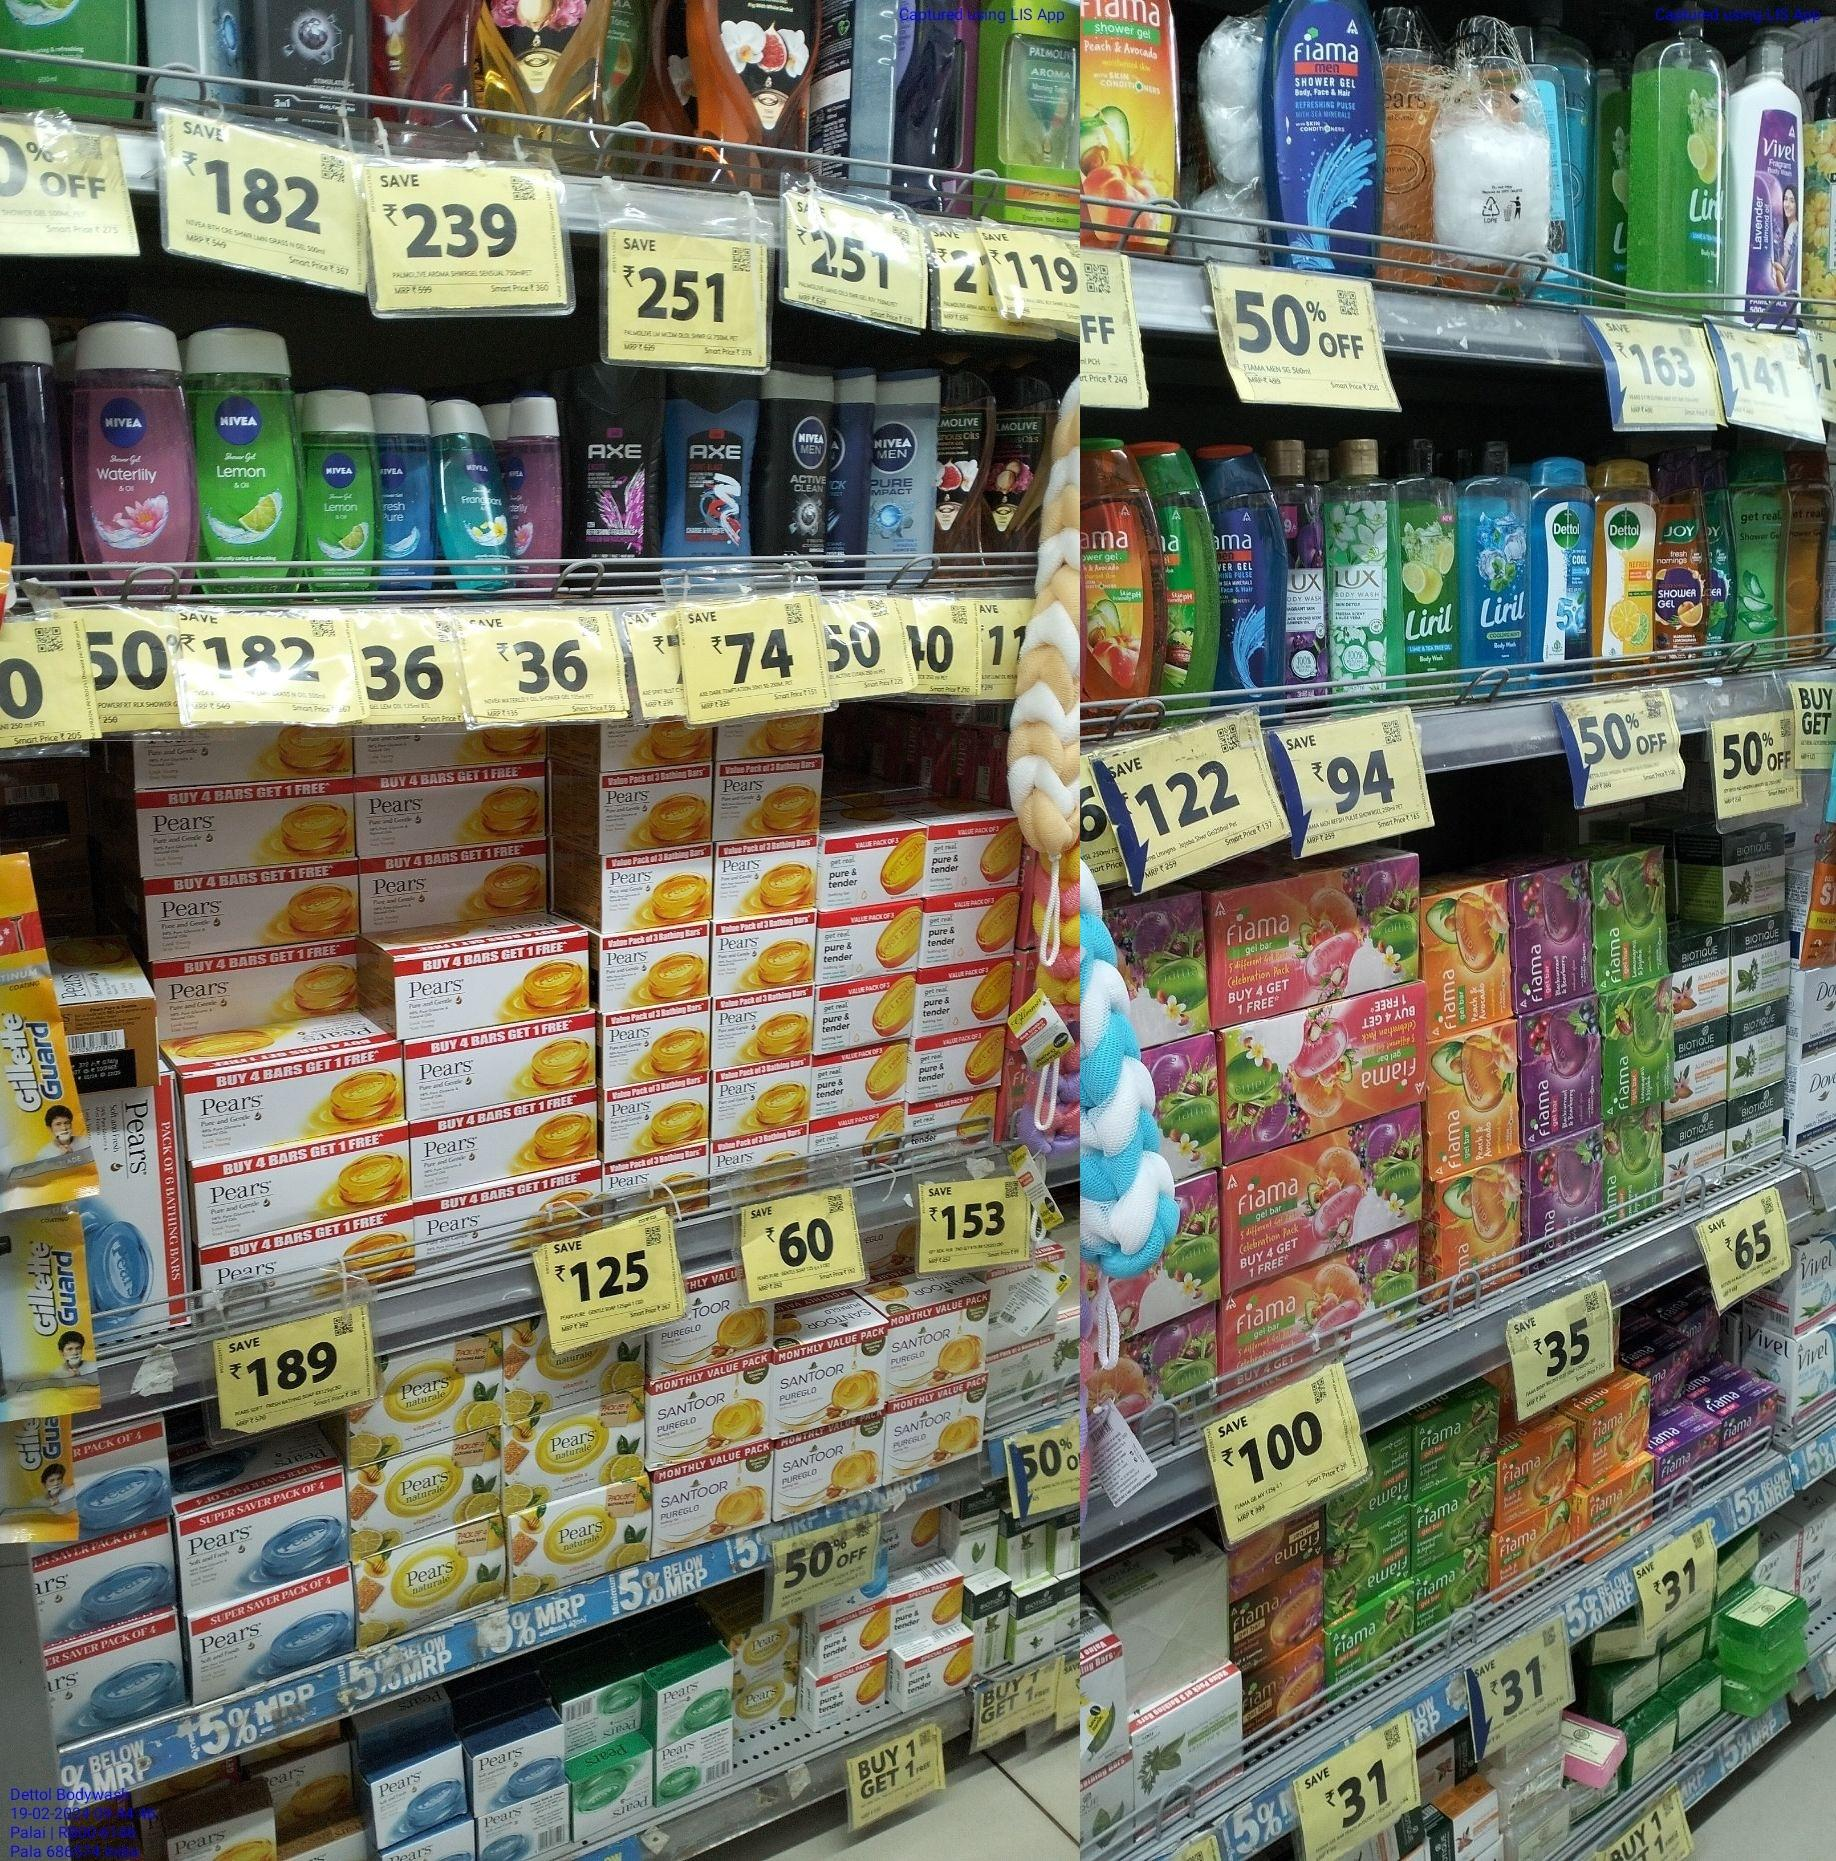Dettol_Bodywash_Cool: (1530, 457, 1592, 688)
Dettol_Bodywash_Refresh: (1597, 456, 1654, 683)
Fiama_Shower_Gel_Peach_and_Avocado_250ML: (1083, 437, 1165, 735)
Joy_Shower_Gel_Mandarin_and_Lemongrass_250ML: (1654, 456, 1708, 674)
Liril_Cooling_Mint_Body_Wash_250ML: (1464, 444, 1528, 693)
Liril_Lime_and_Tea_Tree_Oil_Body_Wash_250ML: (1406, 435, 1463, 699)
Lux_Body_Wash_Skin_Detox_Freesia_Scent_and_Alove_Vera_245ML: (1327, 434, 1406, 708)
Nivea_Shower_Gel_Lemon_and_Oil_250ML: (197, 323, 298, 600)
Nivea_Shower_Gel_Waterlily_and_Oil_250ML: (74, 323, 197, 598)
